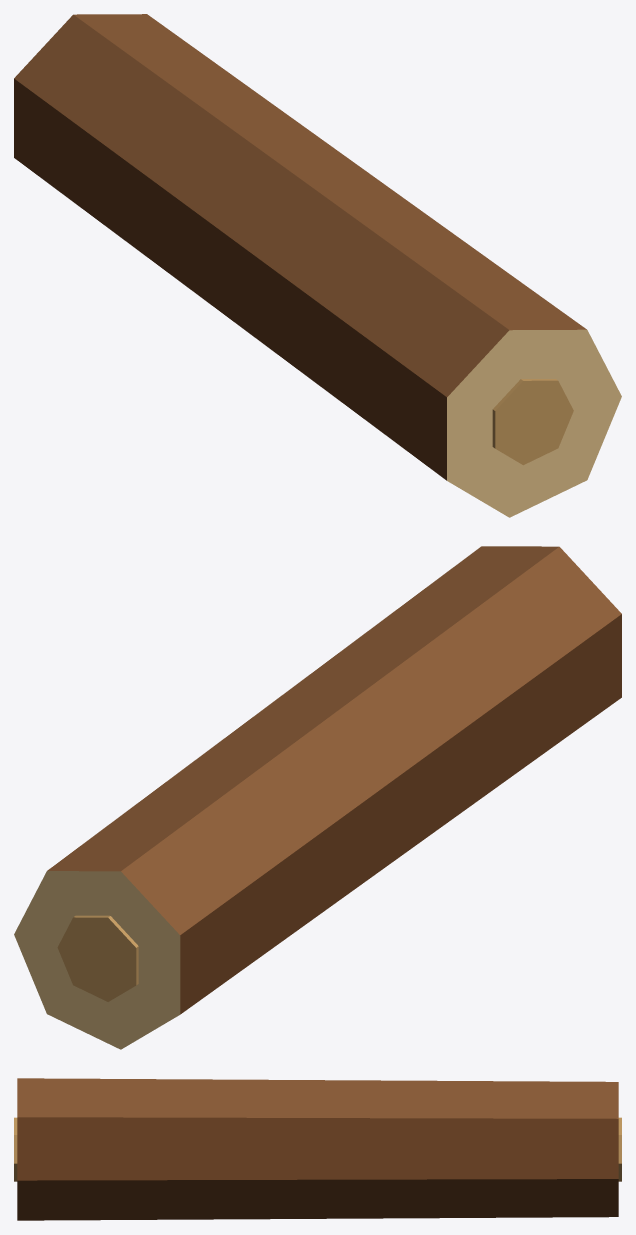
Rendered from log.glb.
3 views of the same model, one above another, from view 1: azimuth 30°, elevation 25°; view 2: azimuth 150°, elevation 25°; view 3: azimuth 270°, elevation 25° (orthographic). The views are drawn at different scales.
Visible parts, largest first — view 1: log; view 2: log; view 3: log.
Boxes of the visible parts, bbox=[...] form: log: bbox=[14, 14, 621, 517]; log: bbox=[14, 546, 621, 1049]; log: bbox=[14, 1078, 621, 1220].
Bounding box in the file's own units: 0.1616 × 0.1657 × 0.708.
1 material, 1 textured.
